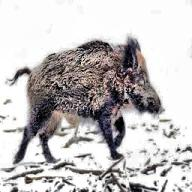boar: (7, 36, 164, 164)
